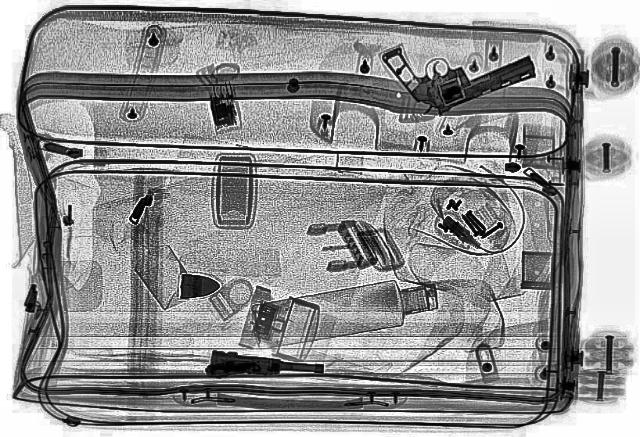Gun: (368, 13, 546, 120), (202, 349, 326, 387)
